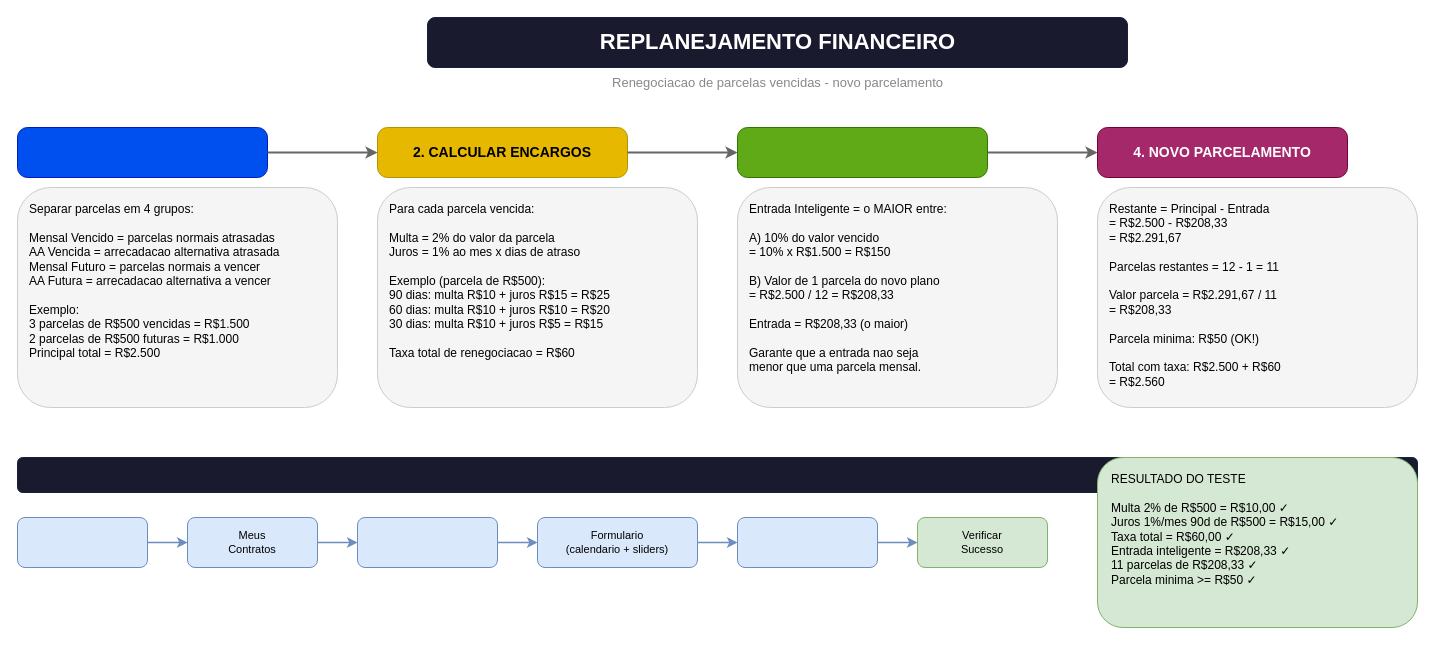
Image size: 1435x645. Some labels were removed from this diagram. Each missing label, with the centre of its shape:
"1. IDENTIFICAR PARCELAS" goes at point (142, 152).
"3. CALCULAR ENTRADA" goes at point (862, 152).
"Acoes > Replanejamento" goes at point (427, 542).
"Confirmar Replanejamento" goes at point (807, 542).
"FLUXO NO PORTAL (Browser)" goes at point (717, 474).
"Login (email + senha)" goes at point (82, 542).
